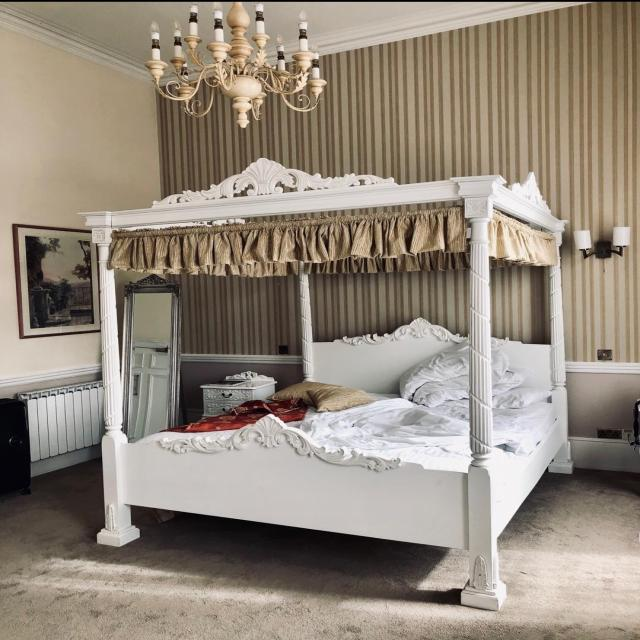bed: (111, 334, 554, 531)
